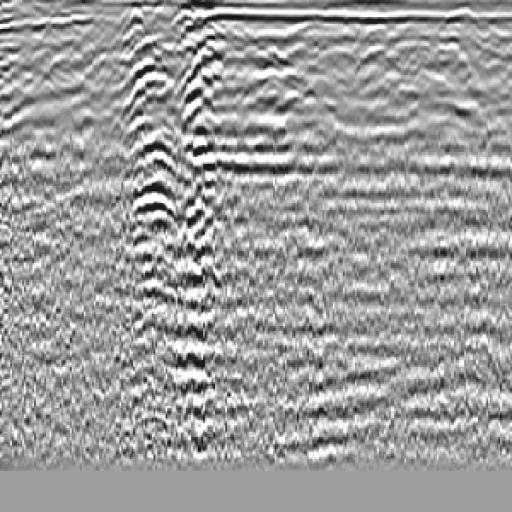metalic: (108, 30, 184, 241)
